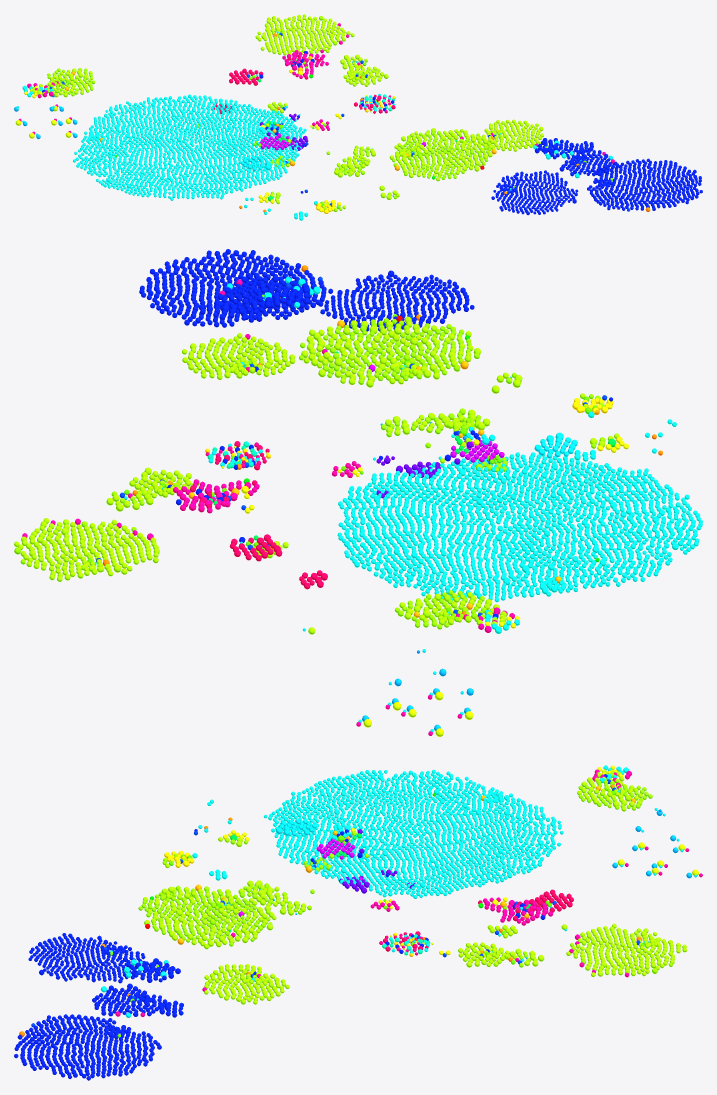
File: task-21b50fbf4-layout.gltf
The picture shows the model from 3 angles, top to bottom: view 1: azimuth 30°, elevation 25°; view 2: azimuth 150°, elevation 25°; view 3: azimuth 270°, elevation 25°; orthographic projection. The views are drawn at different scales.
Parts seen in each view (by area): view 1: normal_no_ext_files, normal_md_files, normal_c_files, normal_h_files, normal_pl_files, normal_py_files, normal_cmake_files, normal_m4_files; view 2: normal_no_ext_files, normal_c_files, normal_md_files, normal_h_files, normal_pl_files, normal_py_files, normal_m4_files; view 3: normal_no_ext_files, normal_c_files, normal_md_files, normal_h_files, normal_pl_files, normal_py_files, normal_m4_files, normal_cmake_files.
Part boxes in pixels (x1,y1,x2,y2): normal_no_ext_files: [22, 85, 579, 220]; normal_md_files: [42, 51, 702, 215]; normal_c_files: [39, 14, 543, 209]; normal_h_files: [37, 14, 490, 211]; normal_pl_files: [27, 23, 614, 163]; normal_py_files: [211, 57, 308, 113]; normal_cmake_files: [259, 133, 426, 150]; normal_m4_files: [240, 127, 612, 170]; normal_no_ext_files: [228, 277, 702, 633]; normal_c_files: [14, 316, 619, 634]; normal_md_files: [139, 249, 612, 618]; normal_h_files: [14, 318, 605, 629]; normal_pl_files: [22, 279, 514, 632]; normal_py_files: [199, 480, 327, 589]; normal_m4_files: [226, 283, 577, 458]; normal_no_ext_files: [100, 765, 629, 992]; normal_c_files: [143, 776, 686, 1004]; normal_md_files: [14, 774, 607, 1080]; normal_h_files: [138, 772, 672, 973]; normal_pl_files: [115, 769, 631, 1016]; normal_py_files: [478, 889, 573, 913]; normal_m4_files: [125, 819, 350, 1017]; normal_cmake_files: [238, 838, 362, 916].
Size of the model in its own units: 326 by 47.38 by 332.
